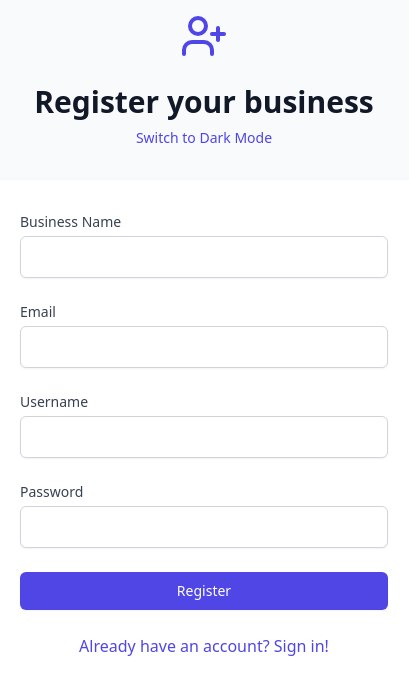
Test: RegisterForm › validates username length
The width and height of the screenshot is (409, 684).
# Fill in the form with short username
In the field labelled "Business Name": (204, 257) [20,236,388,278], type "Test Business"
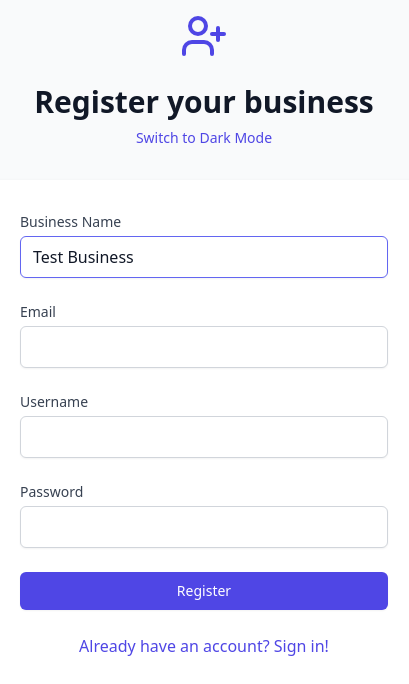
In the field labelled "Email": (204, 347) [20,326,388,368], type "test@example.com"
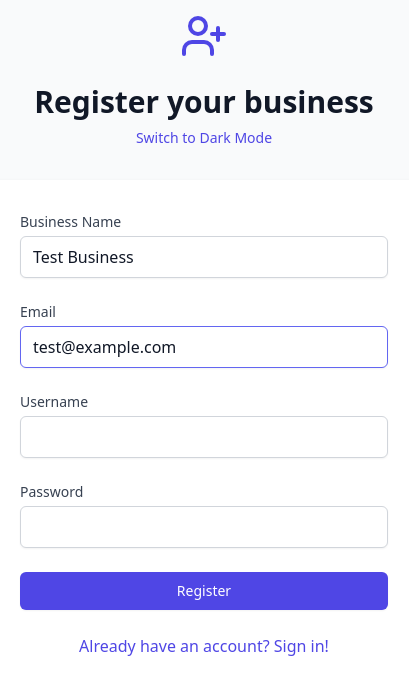
In the field labelled "Username": (204, 437) [20,416,388,458], type "ab"
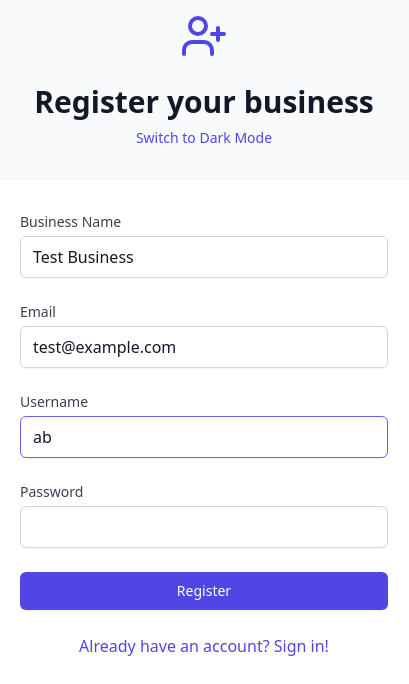
In the password field labelled "Password": (204, 527) [20,506,388,548], type "password123"
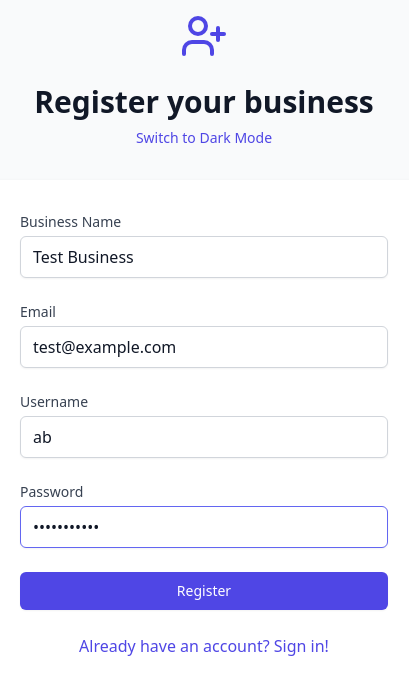
# Submit the form
Click the button "Register": (204, 591) [20,572,388,610]
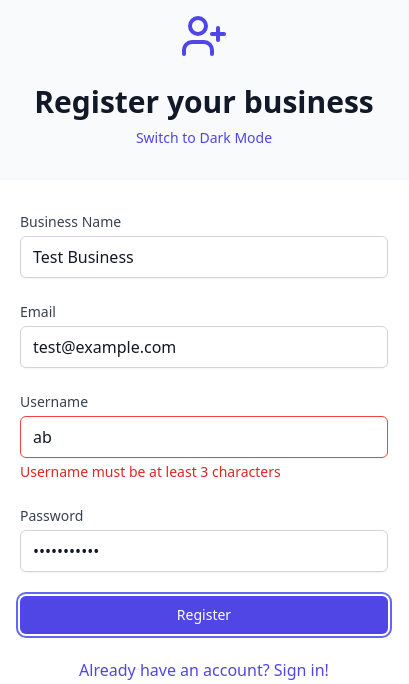
Expected: the text "Username must be at least 3 characters" is shown, [20,462,281,481]
